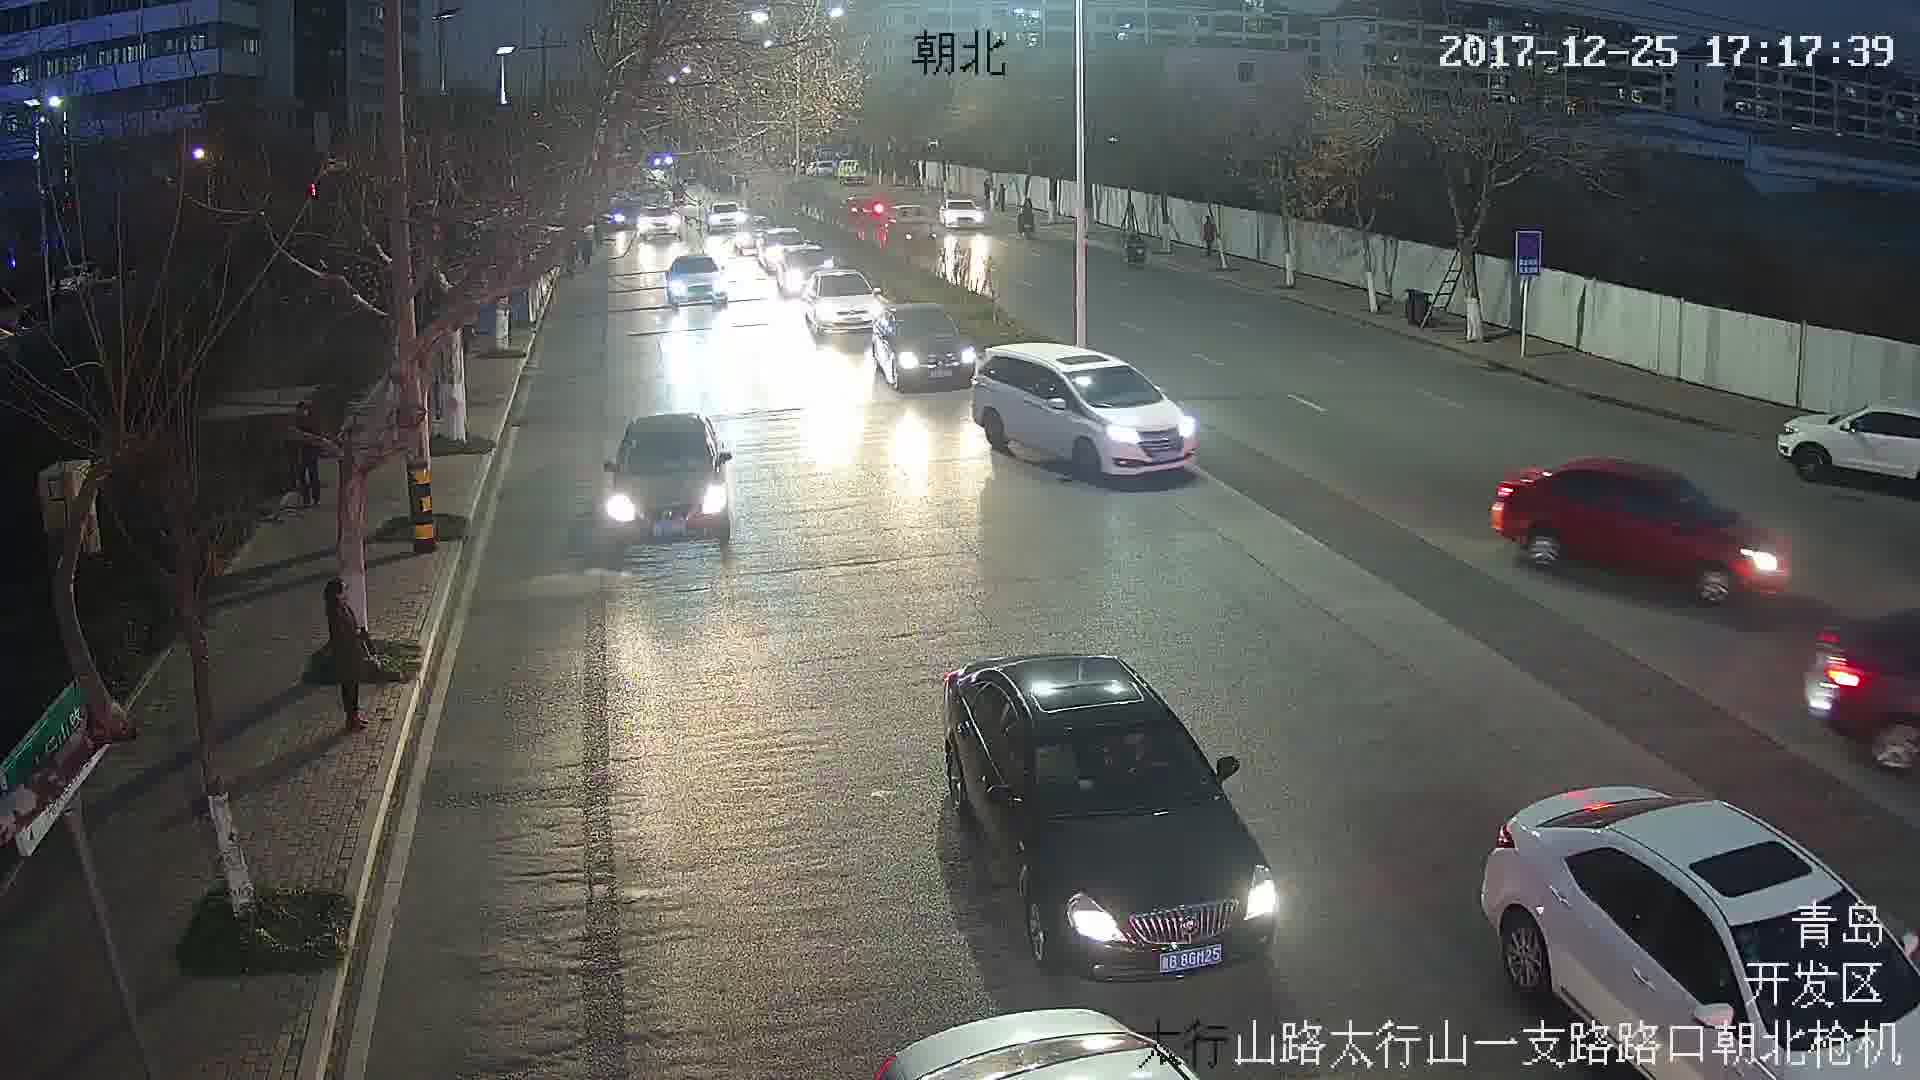car: (938, 655, 1277, 973), (1492, 462, 1800, 596), (978, 348, 1198, 485), (614, 407, 727, 542), (878, 306, 981, 388), (803, 269, 885, 337), (659, 252, 731, 309)
person: (321, 580, 382, 724)
